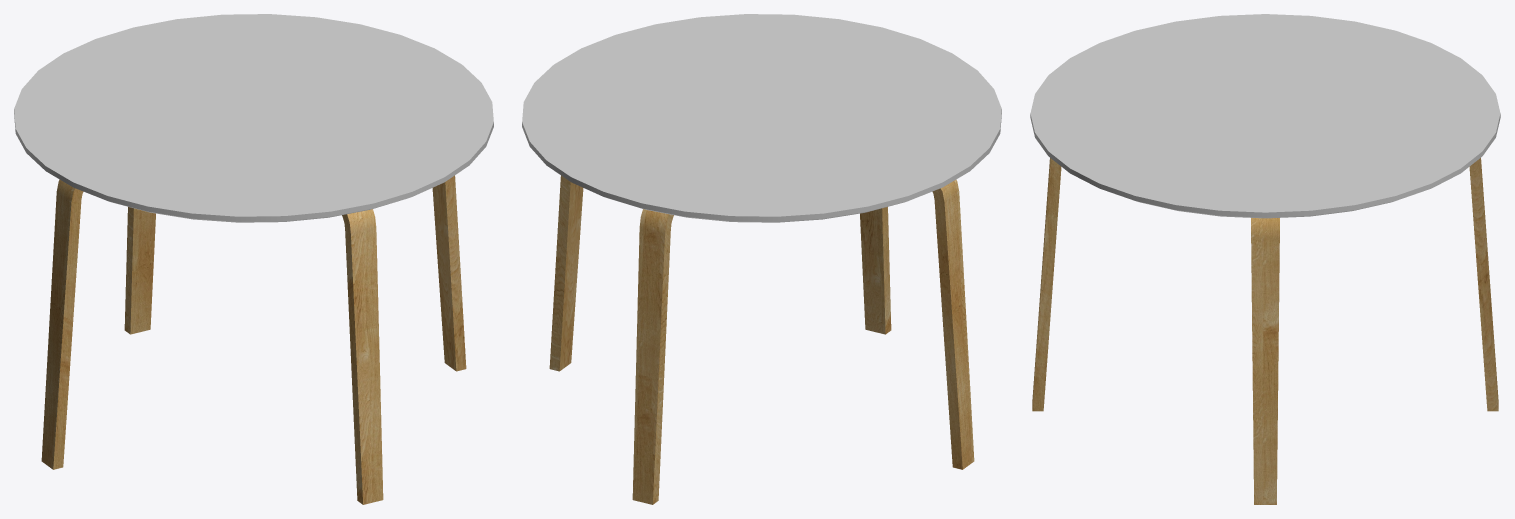
Rendered from sh_scopia_round_table.glb.
The picture shows the model from 3 angles, left to right: view 1: azimuth 30°, elevation 25°; view 2: azimuth 150°, elevation 25°; view 3: azimuth 270°, elevation 25°; orthographic projection. The views are drawn at different scales.
Size of the model in its own units: 1.1 by 0.757 by 1.1.
Materials: 2 (1 with a texture image).
